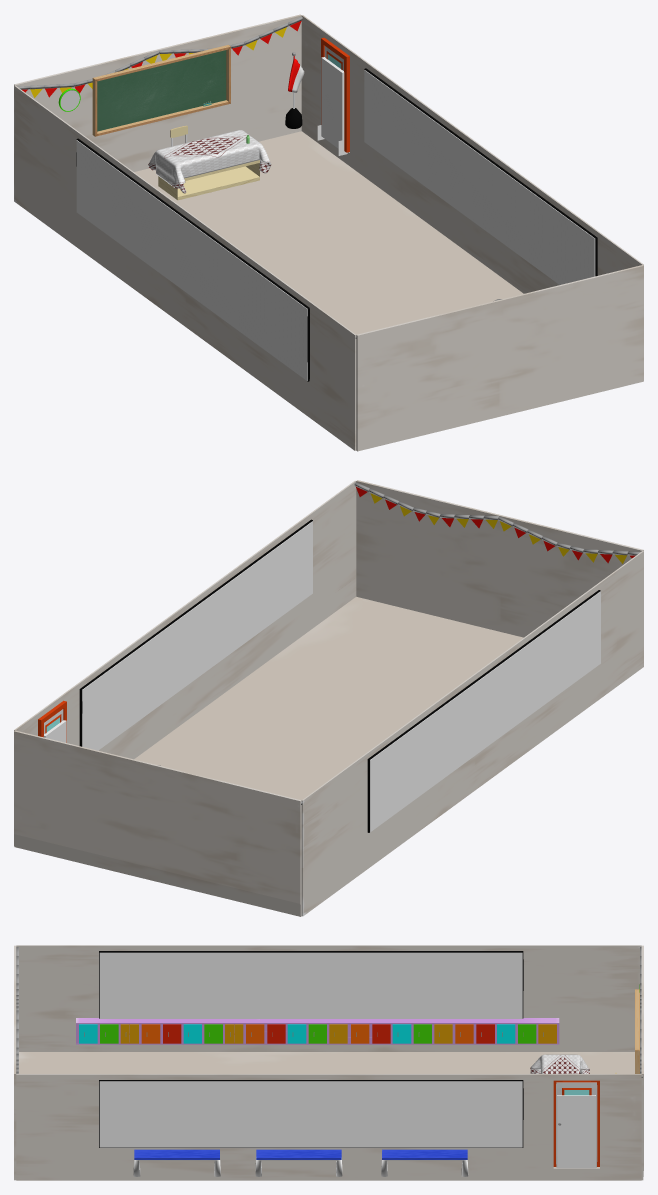
Rendered from New Ruang Kelas.fbx.
3 views of the same model, one above another, from view 1: azimuth 30°, elevation 25°; view 2: azimuth 150°, elevation 25°; view 3: azimuth 270°, elevation 25° (orthographic). The views are drawn at different scales.
Visible parts, largest first — view 1: Lantai, Lantai Belakang, Lantai Kiri, CTRL_Hole.001, CTRL_Hole, Lantai Kanan, Papan Tulis, Kain Meja, CTRL_Hole.004, Meja Guru, Bendera Segitiga, Window.001 (+2 smaller); view 2: Lantai, Lantai Belakang, Lantai Kiri, CTRL_Hole.001, CTRL_Hole, Lantai Kanan, Bendera Segitiga 2, Window.001, Window.002; view 3: Lantai Kanan, CTRL_Hole, CTRL_Hole.001, Lantai Kiri, Lantai, Loker, CTRL_Hole.004, Window.002, Kursi Luar 1, Kursi Luar 3, Kursi Luar 2, Window.001 (+6 smaller).
Part boxes in pixels (box(x1,y1,x2,y2)): Lantai: box(14, 14, 523, 334); Lantai Belakang: box(356, 265, 643, 451); Lantai Kiri: box(14, 85, 356, 450); CTRL_Hole.001: box(76, 140, 307, 380); CTRL_Hole: box(364, 70, 595, 284); Lantai Kanan: box(301, 15, 643, 293); Papan Tulis: box(92, 45, 230, 136); Kain Meja: box(148, 130, 271, 193); CTRL_Hole.004: box(321, 57, 344, 150); Meja Guru: box(158, 160, 259, 200); Bendera Segitiga: box(17, 17, 302, 97); Window.001: box(76, 138, 309, 381); Lantai: box(14, 596, 523, 916); Lantai Belakang: box(356, 480, 643, 637); Lantai Kiri: box(301, 551, 643, 916); CTRL_Hole.001: box(370, 591, 600, 832); CTRL_Hole: box(82, 521, 312, 750); Lantai Kanan: box(14, 480, 356, 845); Bendera Segitiga 2: box(354, 482, 640, 563); Window.001: box(367, 590, 600, 832); Window.002: box(79, 519, 312, 746); Lantai Kanan: box(16, 1074, 641, 1180); CTRL_Hole: box(99, 1081, 522, 1147); CTRL_Hole.001: box(99, 952, 522, 1018); Lantai Kiri: box(16, 945, 641, 1051); Lantai: box(19, 945, 643, 1180); Loker: box(76, 1018, 559, 1044); CTRL_Hole.004: box(557, 1095, 595, 1168); Window.002: box(99, 1080, 523, 1147); Kursi Luar 1: box(381, 1149, 468, 1176); Kursi Luar 3: box(133, 1149, 220, 1176); Kursi Luar 2: box(255, 1149, 342, 1176); Window.001: box(99, 951, 523, 1018).
Size of the model in its own units: 1631 by 583 by 3128.
Materials: 36 (7 with a texture image).
